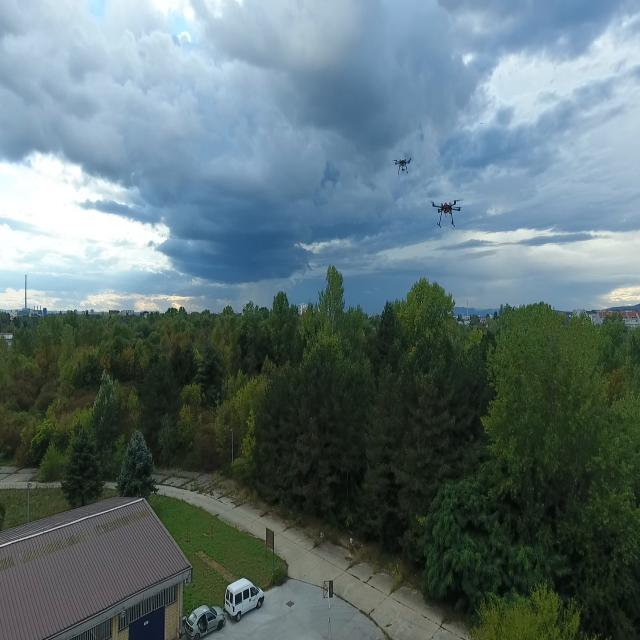UAV: (425, 191, 471, 234), (390, 148, 415, 181)
